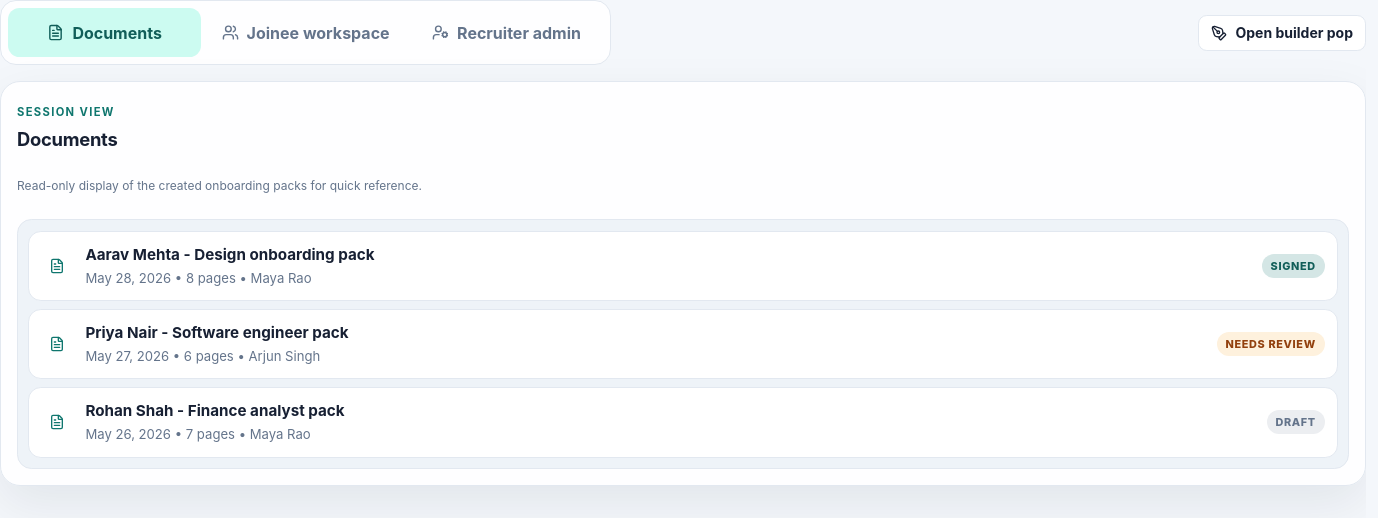
Test: DashboardTabs › allows an admin to add a recruiter invite
Click the tab "Recruiter admin": {"x": 507, "y": 33} [410,8,603,57]
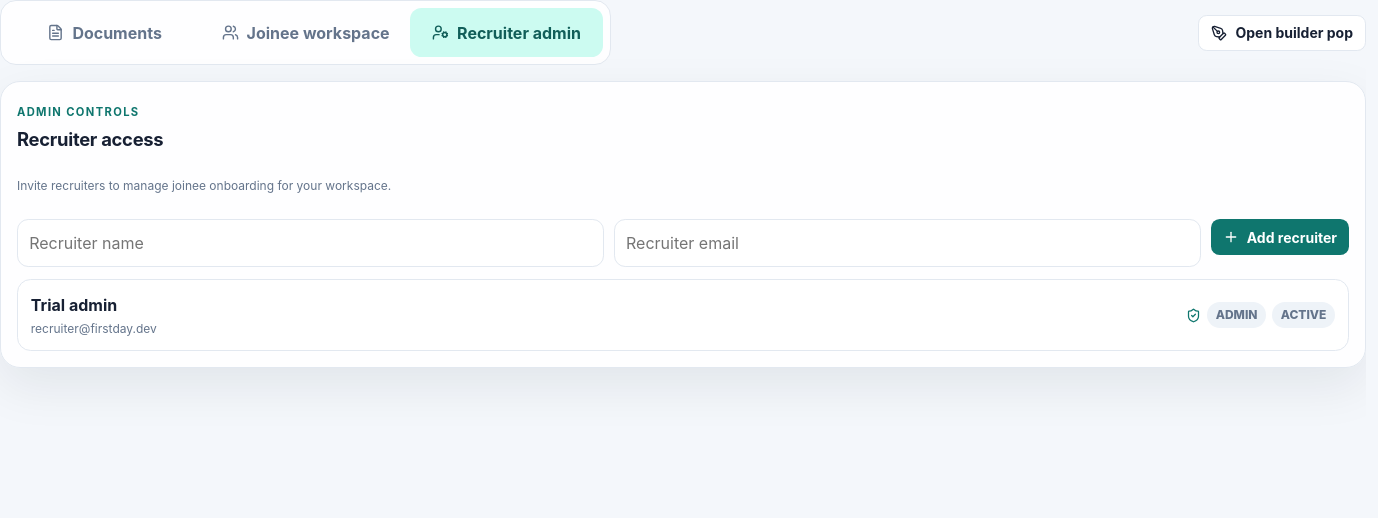
In the field labelled "Recruiter name": {"x": 311, "y": 243} [17,219,604,268], type "Maya Rao"
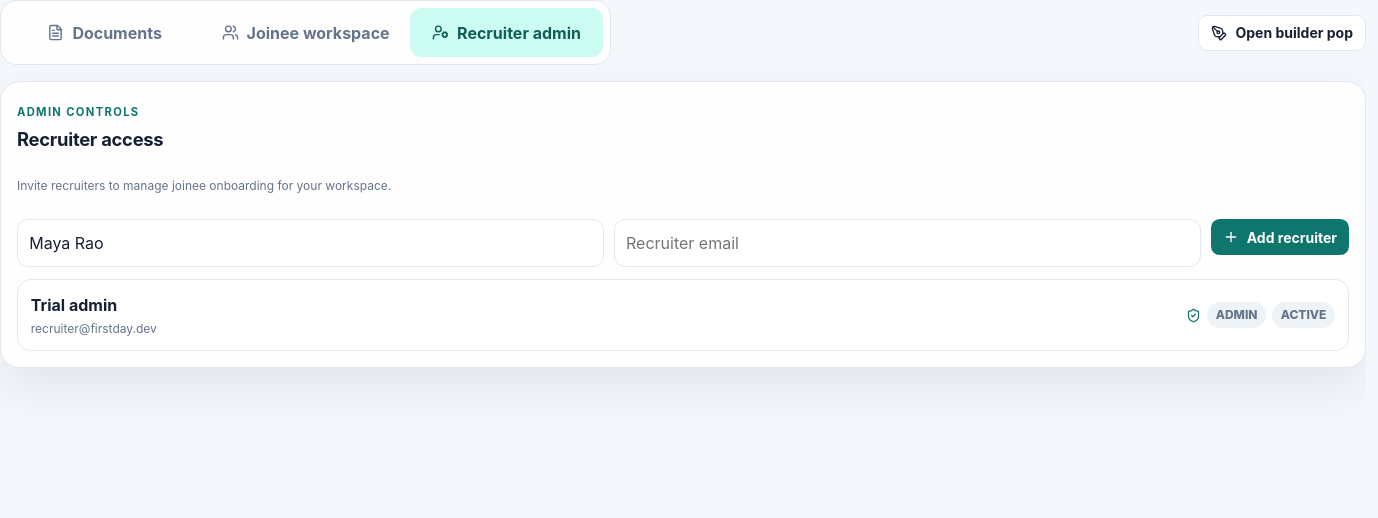
In the field labelled "Recruiter email": {"x": 908, "y": 243} [614,219,1201,268], type "maya@example.com"
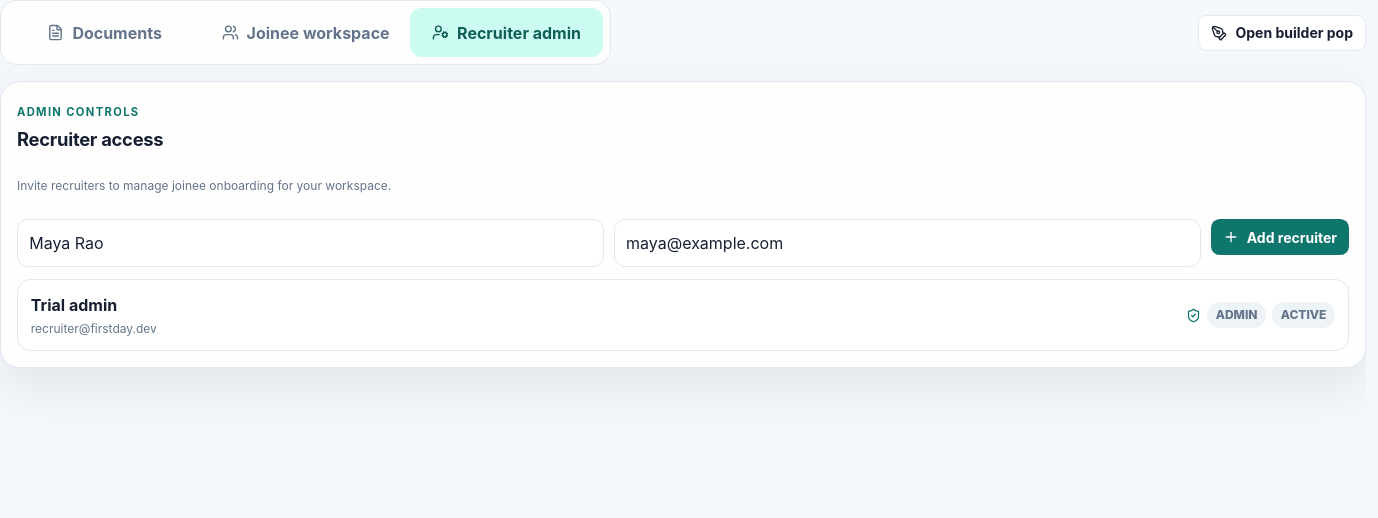
Click the button "Add recruiter": {"x": 1280, "y": 237} [1211,219,1349,255]
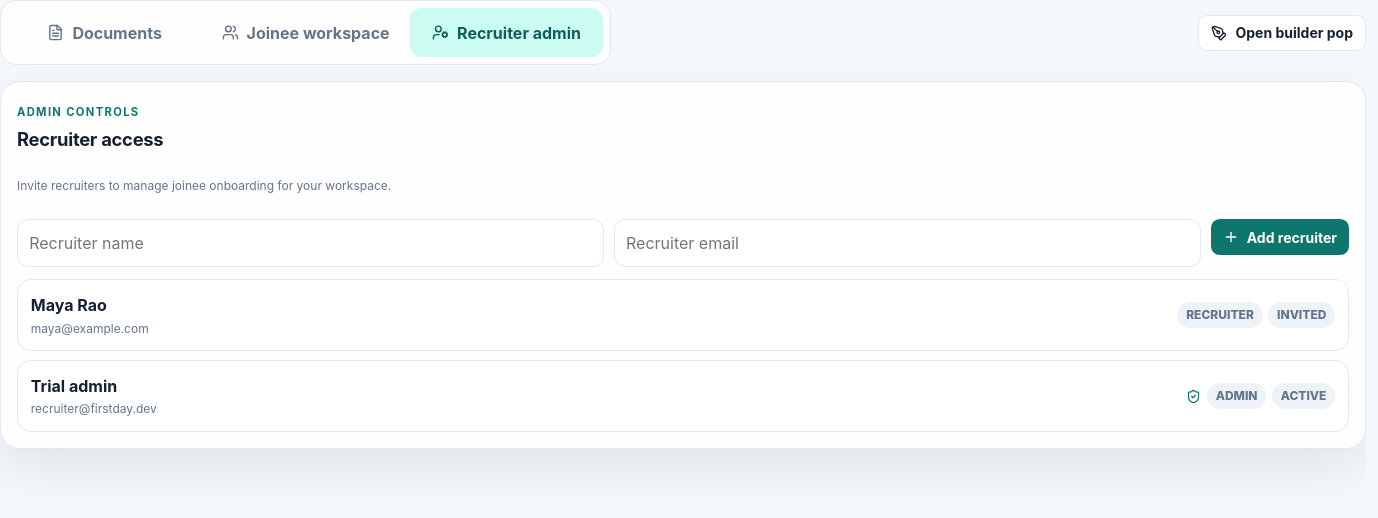
Now the text "Maya Rao" is shown, box [31,295,107,315]
Now the text "maya@example.com" is shown, box [31,320,149,338]
